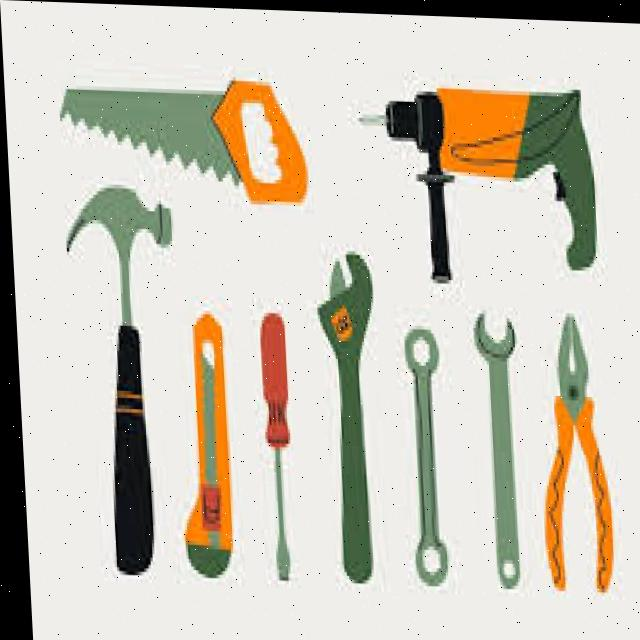Screwdriver: (257, 310, 281, 578)
